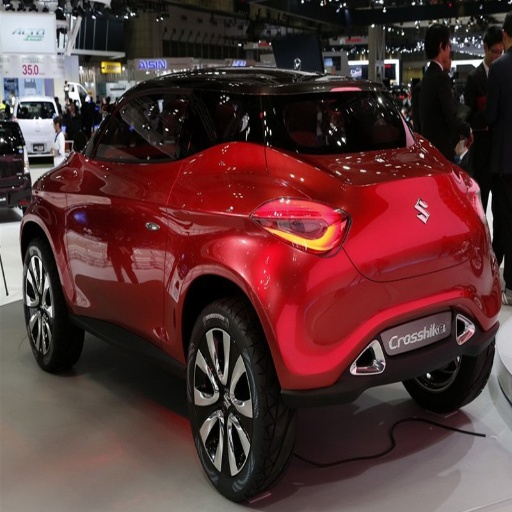back_bumper: (284, 277, 461, 394)
front_right_door: (83, 234, 164, 328)
trunk: (349, 177, 434, 286)
